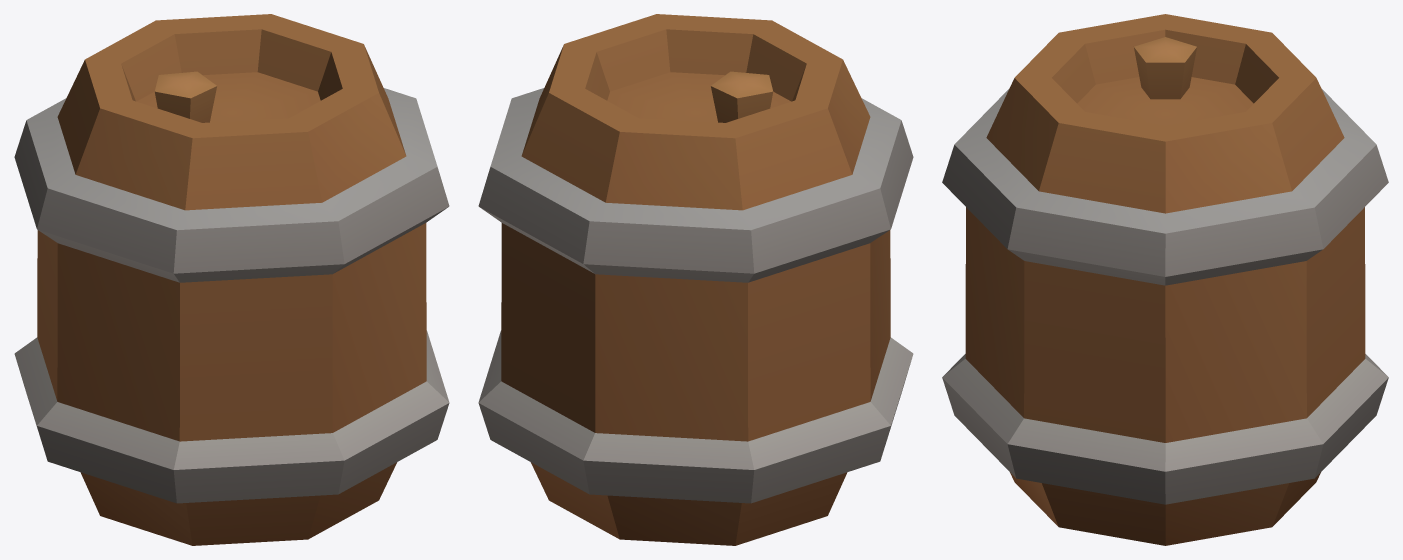
Rendered from kaykit_dungeon_barrel_small.glb.
3 renders of one model, left to right at view 1: azimuth 30°, elevation 25°; view 2: azimuth 150°, elevation 25°; view 3: azimuth 270°, elevation 25°, orthographic.
Visible parts, largest first — view 1: barrel_small; view 2: barrel_small; view 3: barrel_small.
Boxes of the visible parts, x1,y1,x2,y2 form: barrel_small: [14, 14, 449, 545]; barrel_small: [478, 14, 913, 545]; barrel_small: [942, 14, 1388, 545].
Size of the model in its own units: 1 by 1.02 by 1.
Materials: 1 (1 with a texture image).
